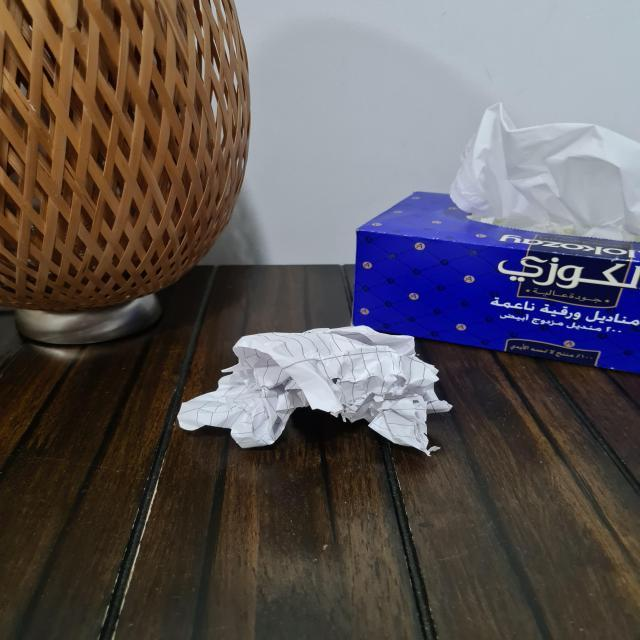cardboard paper: (352, 191, 638, 371), (177, 325, 449, 452), (449, 102, 638, 238)
